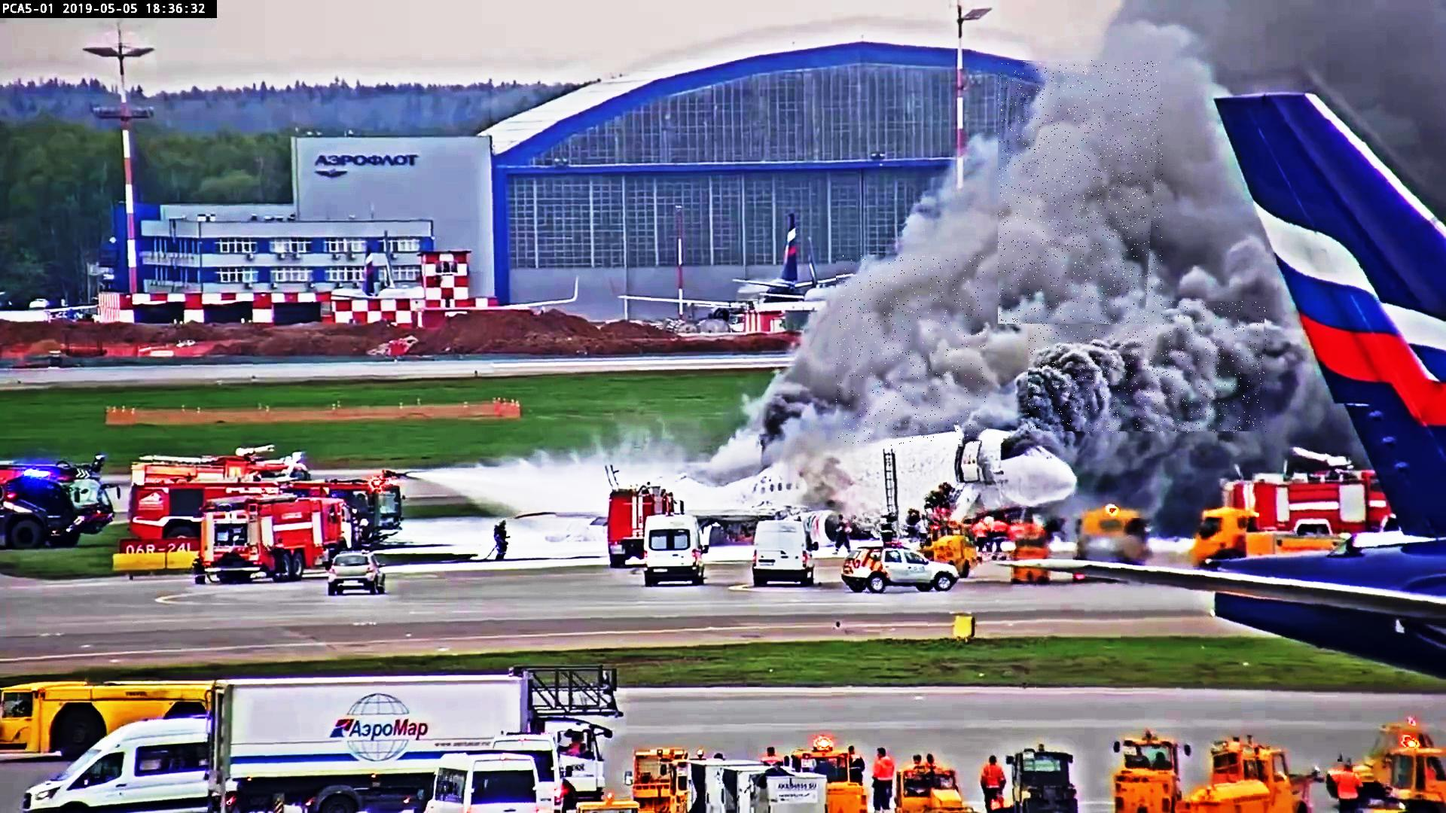smoke: (998, 61, 1163, 326), (1028, 302, 1267, 433), (836, 255, 986, 446)
